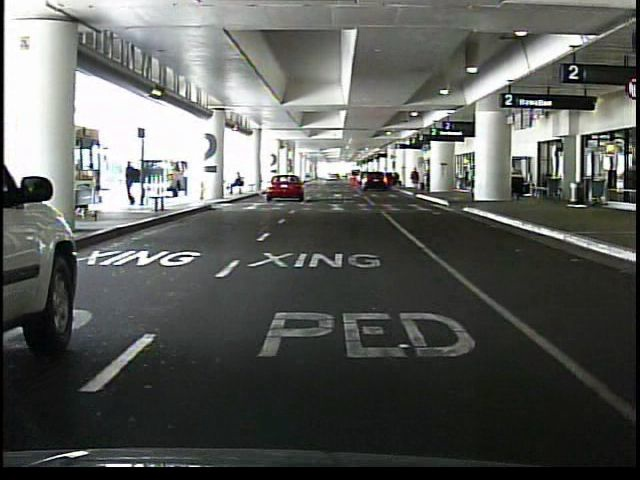person: (126, 161, 142, 207), (229, 171, 247, 195), (411, 165, 422, 193), (470, 162, 477, 200)
